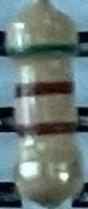Brown: (15, 121, 78, 137), (15, 82, 74, 98)
Green: (7, 43, 78, 58)
Side-Silver: (14, 160, 83, 178)
